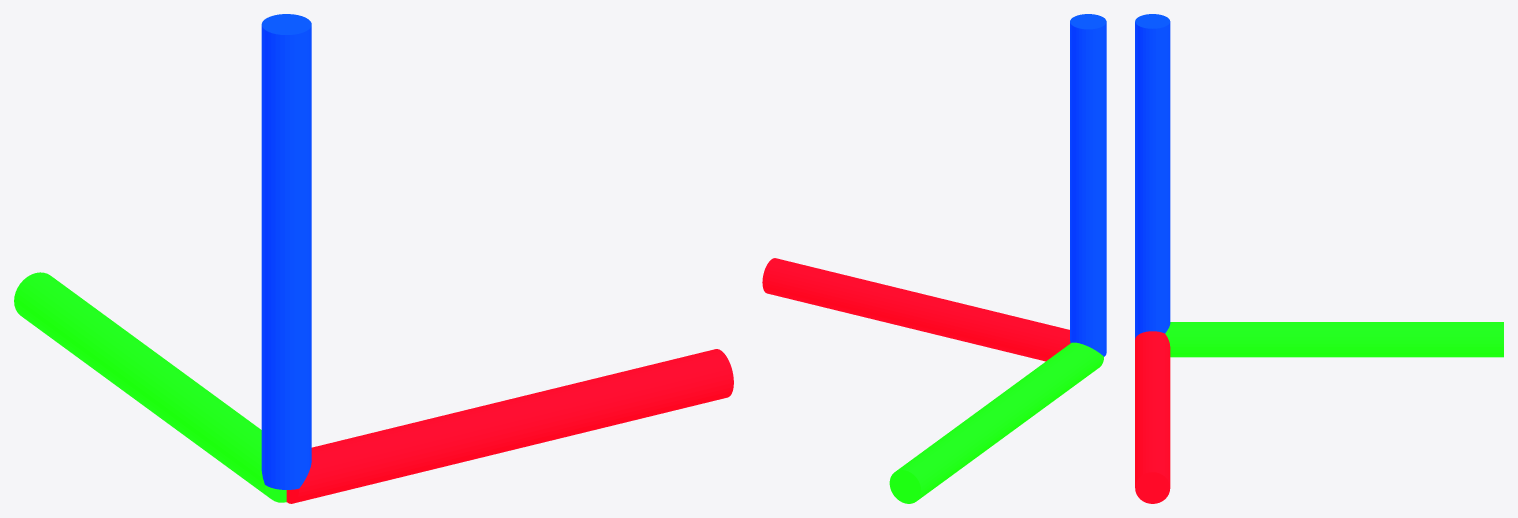
Rendered from axis.dae.
3 views of the same model, side by side, from view 1: azimuth 30°, elevation 25°; view 2: azimuth 150°, elevation 25°; view 3: azimuth 270°, elevation 25° (orthographic). The views are drawn at different scales.
Parts seen in each view (by area): view 1: WORLD_FRAME; view 2: WORLD_FRAME; view 3: WORLD_FRAME.
Boxes of the visible parts, x1,y1,x2,y2 form: WORLD_FRAME: (14,14,733,503); WORLD_FRAME: (762,14,1106,503); WORLD_FRAME: (1135,14,1503,503).
Size of the model in its own units: 0.7893 by 0.7893 by 0.7893.
